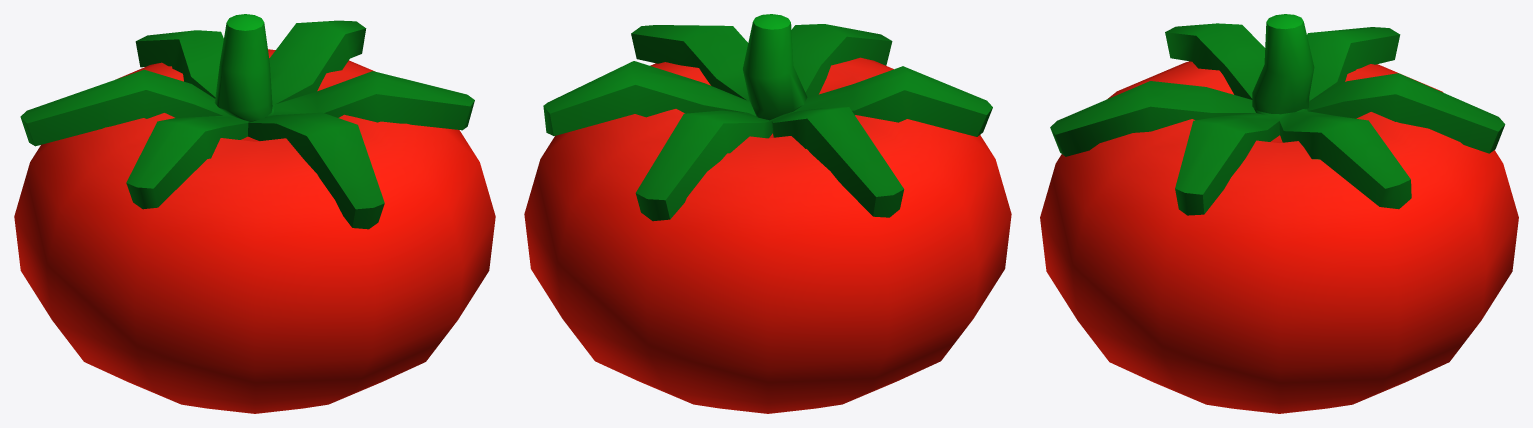
File: Tomato_01.fbx
3 views of the same model, side by side, from view 1: azimuth 30°, elevation 25°; view 2: azimuth 150°, elevation 25°; view 3: azimuth 270°, elevation 25° (orthographic).
Parts seen in each view (by area): view 1: Tomato_01; view 2: Tomato_01; view 3: Tomato_01.
Boxes of the visible parts, left/top/right/bottom form: Tomato_01: left=14, top=14, right=495, bottom=413; Tomato_01: left=524, top=14, right=1011, bottom=413; Tomato_01: left=1040, top=14, right=1518, bottom=413.
Bounding box in the file's own units: 37.18 × 30.38 × 37.18.
